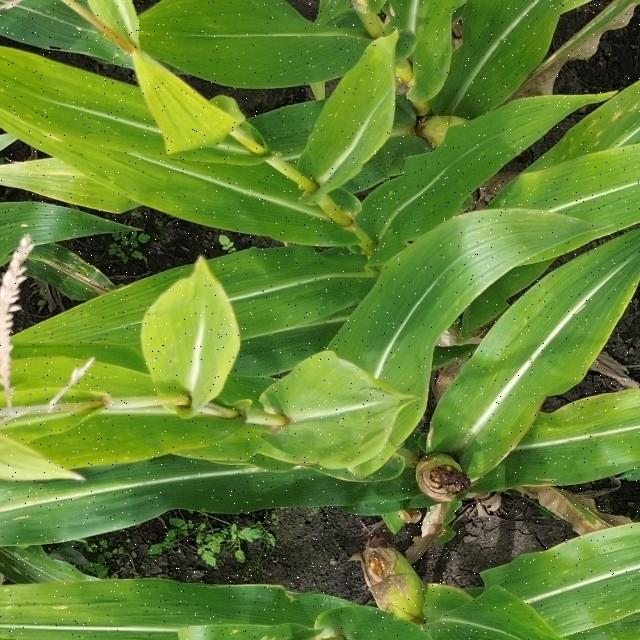gray-leaf-spot: (561, 98, 640, 157), (29, 248, 119, 297)
southern-leaf-blight: (245, 246, 364, 310), (535, 410, 633, 476), (139, 3, 239, 60), (360, 174, 442, 239), (532, 588, 632, 629)
